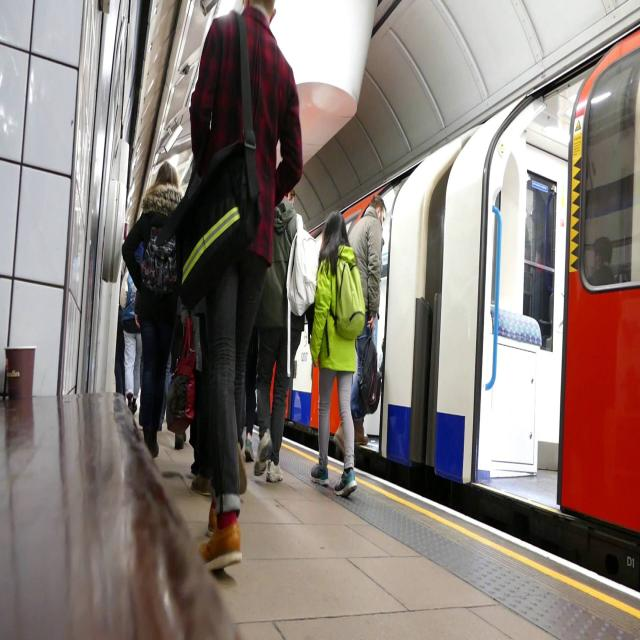body: (184, 0, 305, 578), (252, 186, 320, 483), (121, 160, 183, 458), (308, 208, 367, 500), (333, 194, 387, 458), (523, 206, 622, 330), (161, 271, 210, 451), (235, 316, 261, 466), (119, 268, 143, 411), (184, 459, 262, 492), (112, 266, 128, 404)
